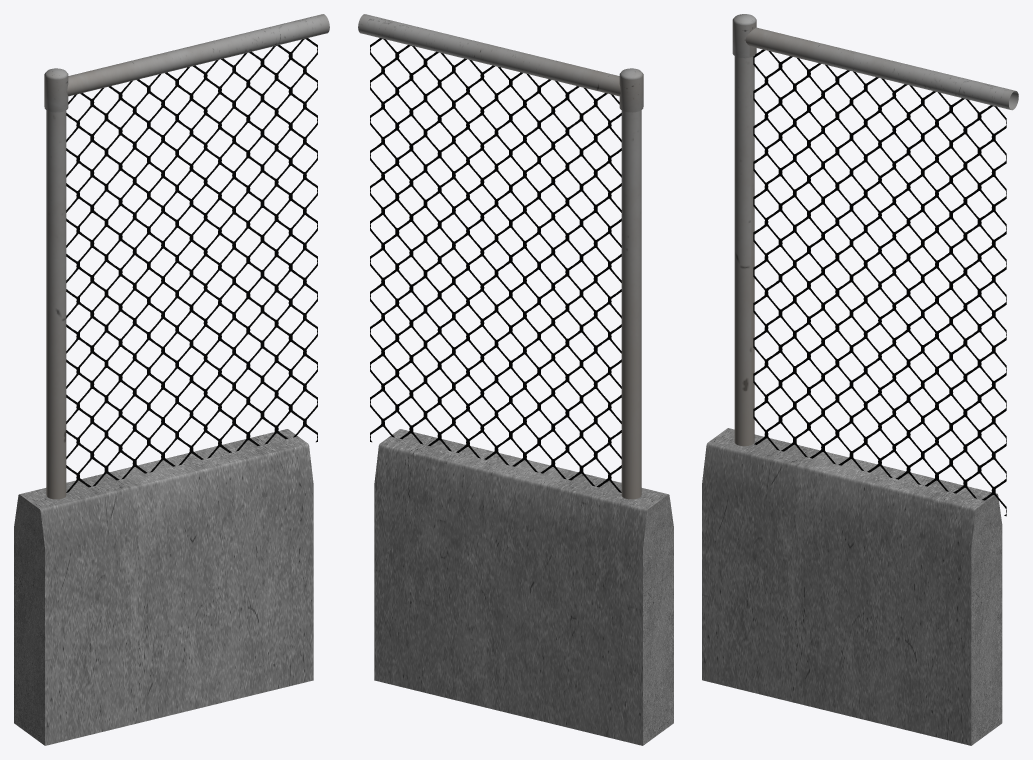
File: chain_wall_straight_short.fbx
The picture shows the model from 3 angles, left to right: view 1: azimuth 30°, elevation 25°; view 2: azimuth 150°, elevation 25°; view 3: azimuth 330°, elevation 25°; orthographic projection.
Visible parts, largest first — view 1: chain_wall_straight_short; view 2: chain_wall_straight_short; view 3: chain_wall_straight_short.
Boxes of the visible parts, <box> form: chain_wall_straight_short: <box>14,14,329,745</box>; chain_wall_straight_short: <box>358,14,673,745</box>; chain_wall_straight_short: <box>702,14,1018,745</box>.
Bounding box in the file's own units: 1.1 × 2.34 × 0.2.
2 materials, 2 textured.
